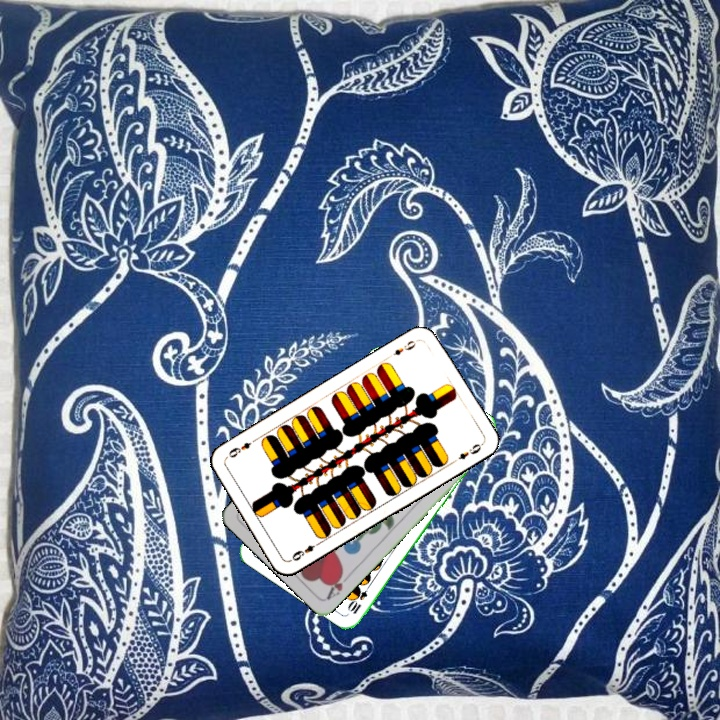E10: (345, 579, 373, 616)
E9: (288, 538, 323, 564), (389, 335, 421, 358)
HA: (322, 566, 354, 602)
